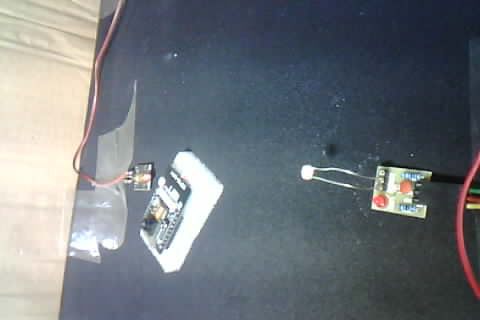esp32: (137, 145, 222, 269)
